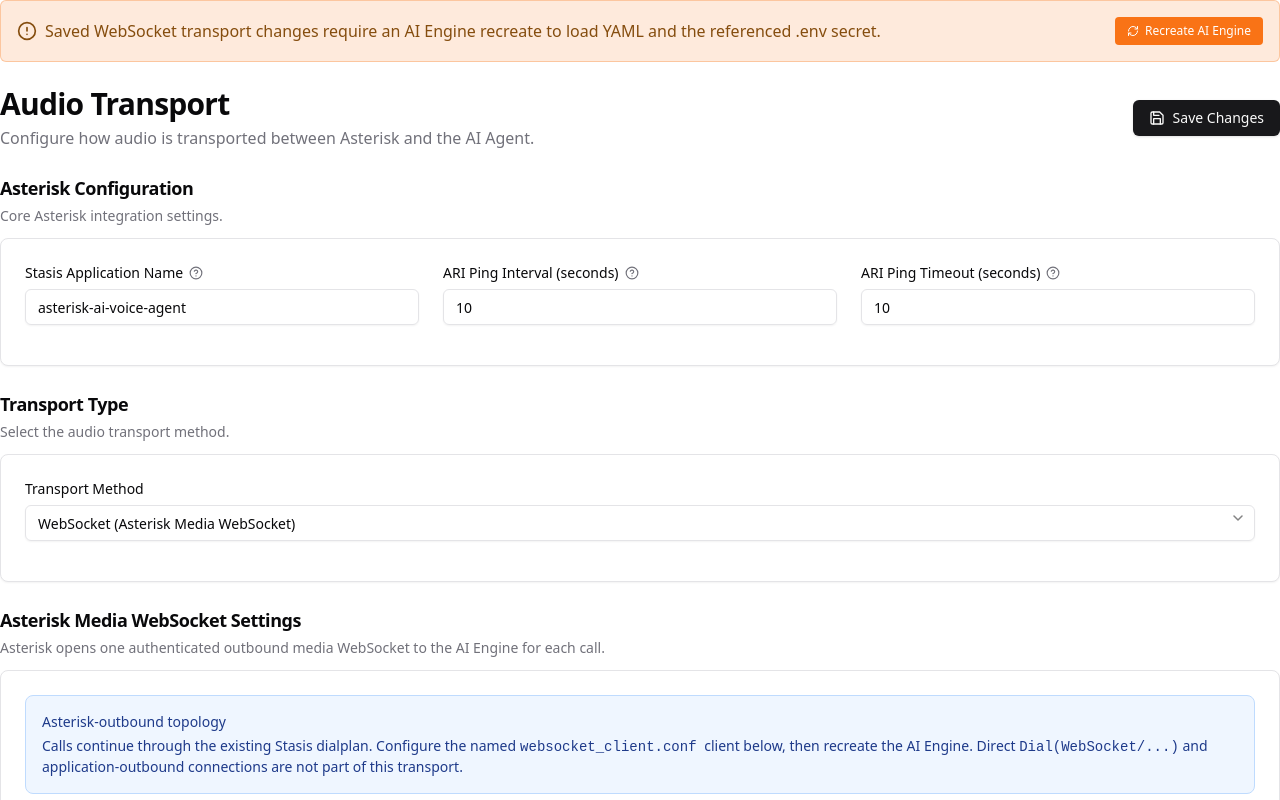
Test: TransportPage audio profile guidance › shows updater image build progress while a WebSocket recreate is in flight
What coordinates should you click on to do the following:
click the button "Recreate AI Engine"
I would click on:
 (1189, 31)
Its box is [1115,17,1263,45].
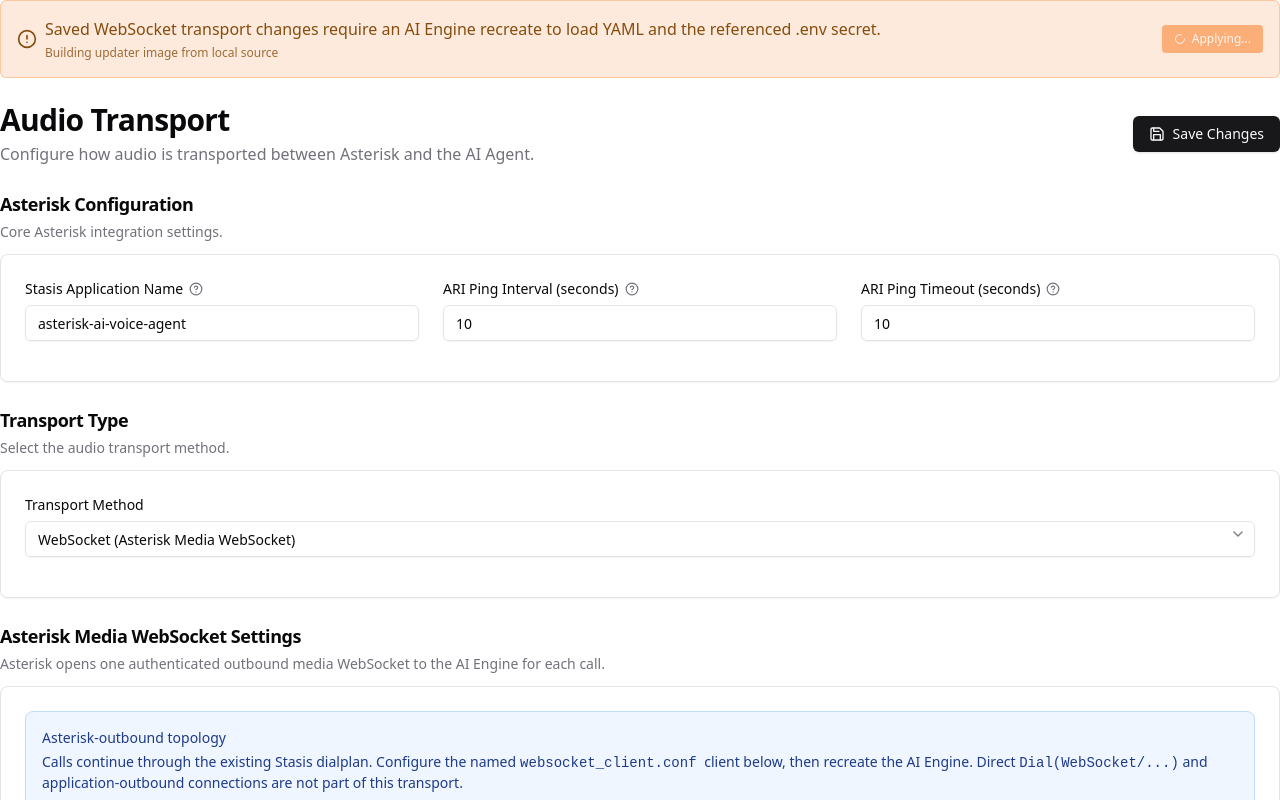
Now the text "Building updater image from local source" is shown, box [45,44,278,61]
